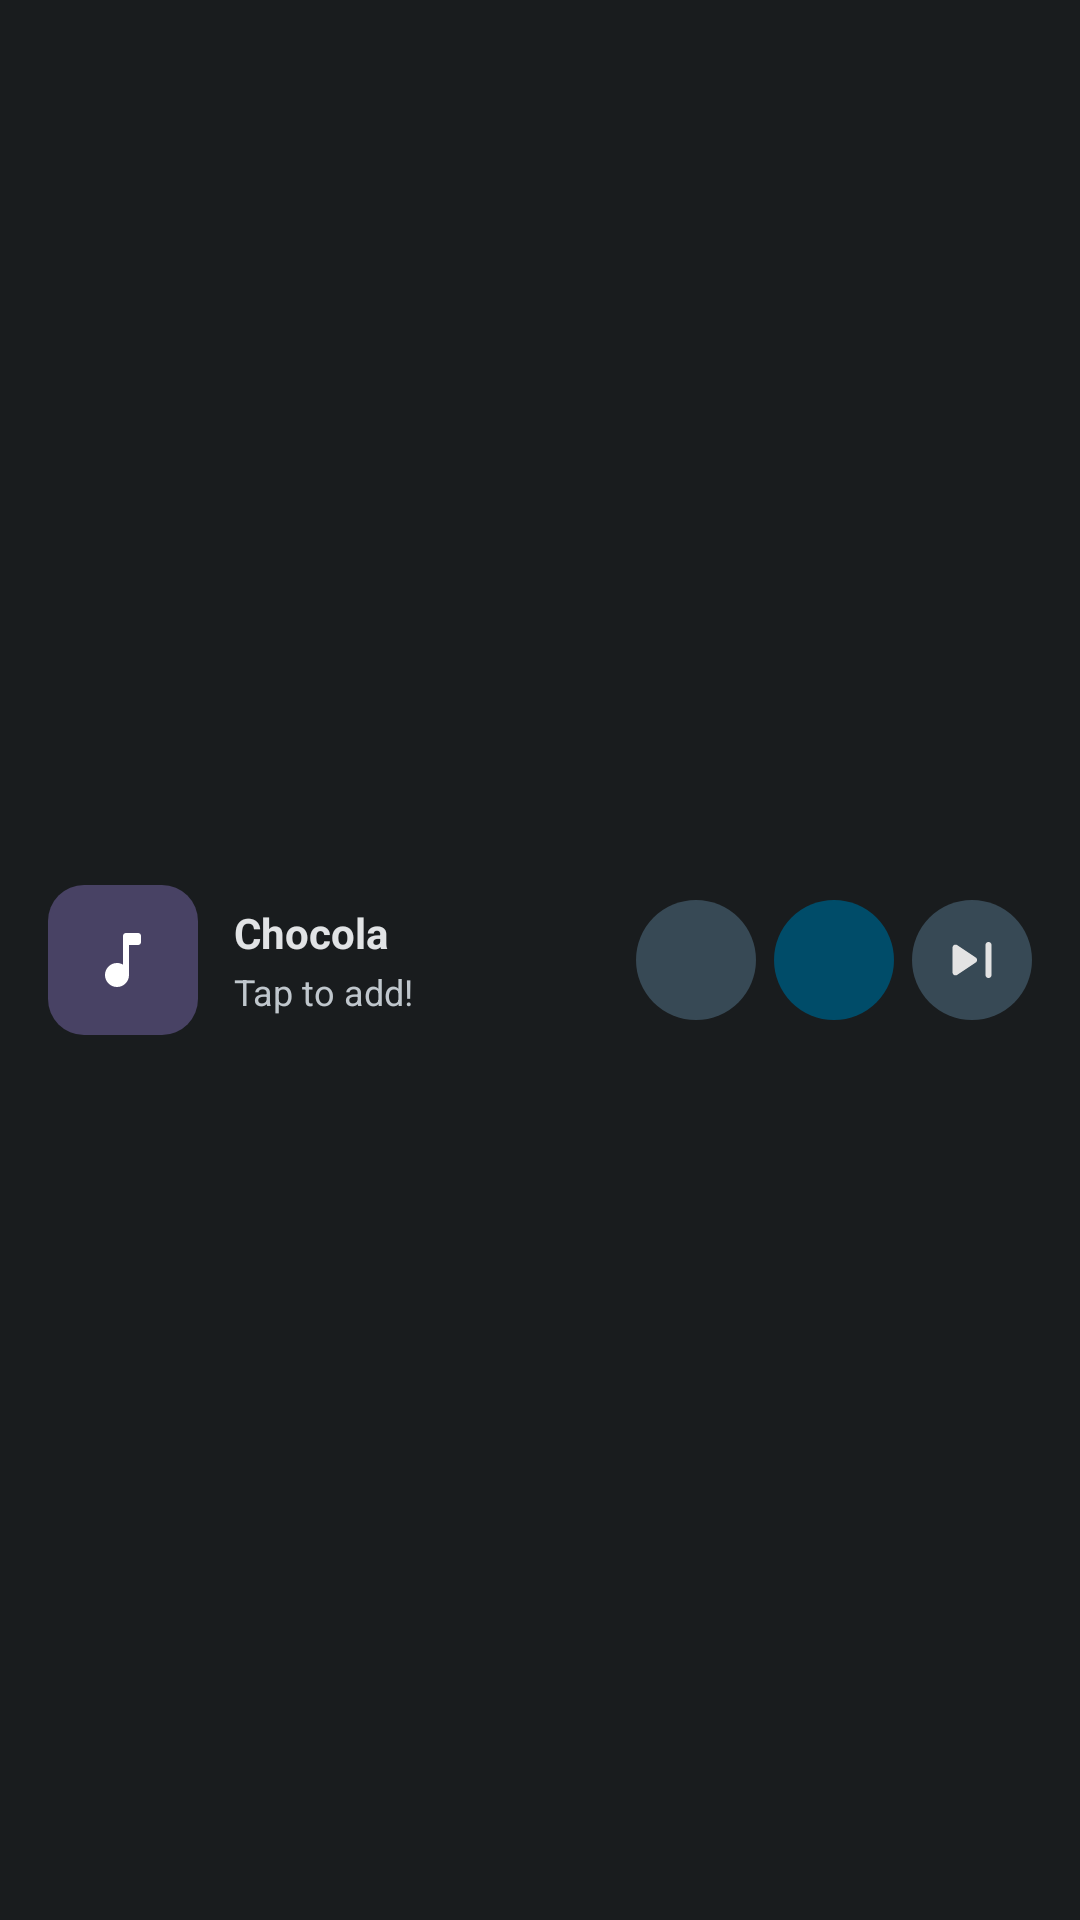

Icons on this 1080w x 1920h Android screen, each with its box as (x1, y1, x2, y2):
Artwork: (48, 885, 198, 1035)
Next Song: (912, 900, 1032, 1020)
